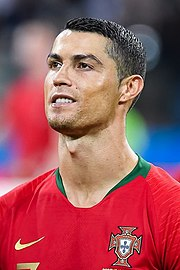NoMask: (44, 50, 105, 133)
